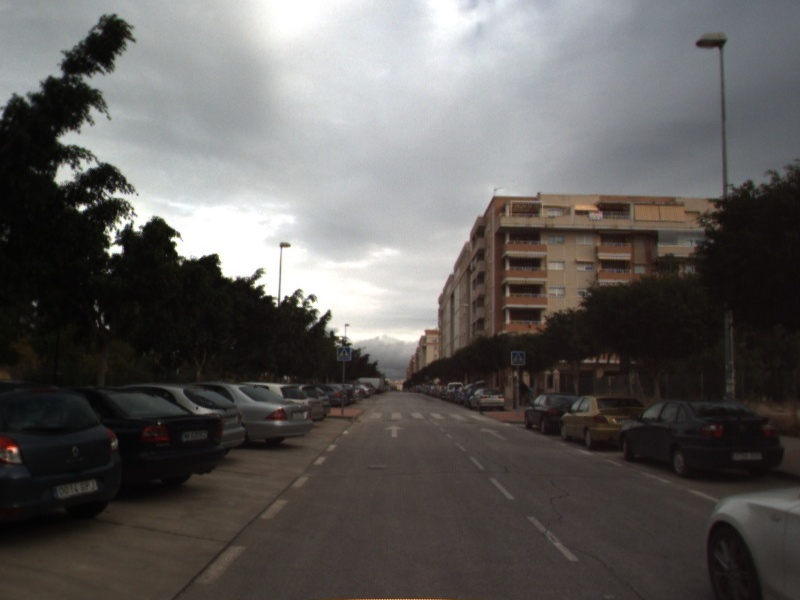STRAIGHT: (477, 425, 509, 442), (383, 423, 407, 439)
